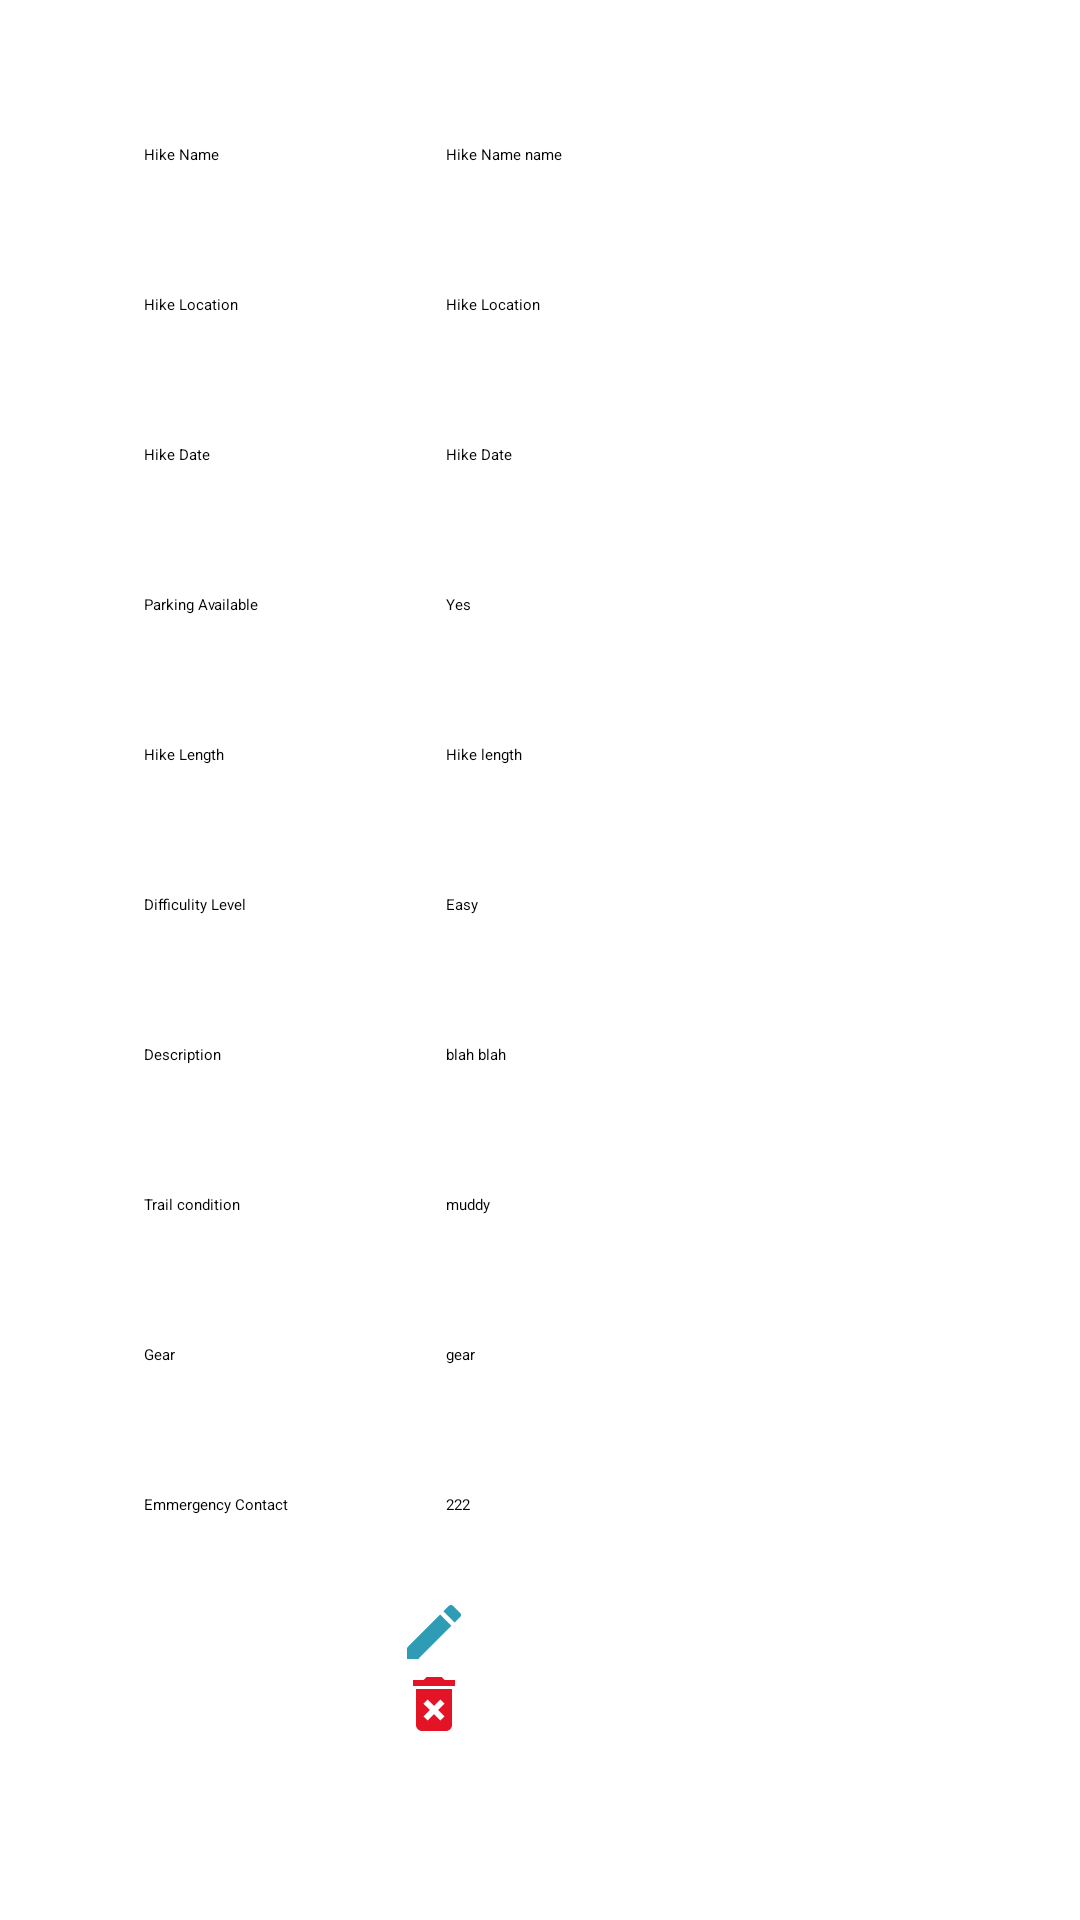

Point at icon controls on the screen. Image size 1080px×1920px, points as [x,y].
delete: [434,1704]
edit: [434,1632]
